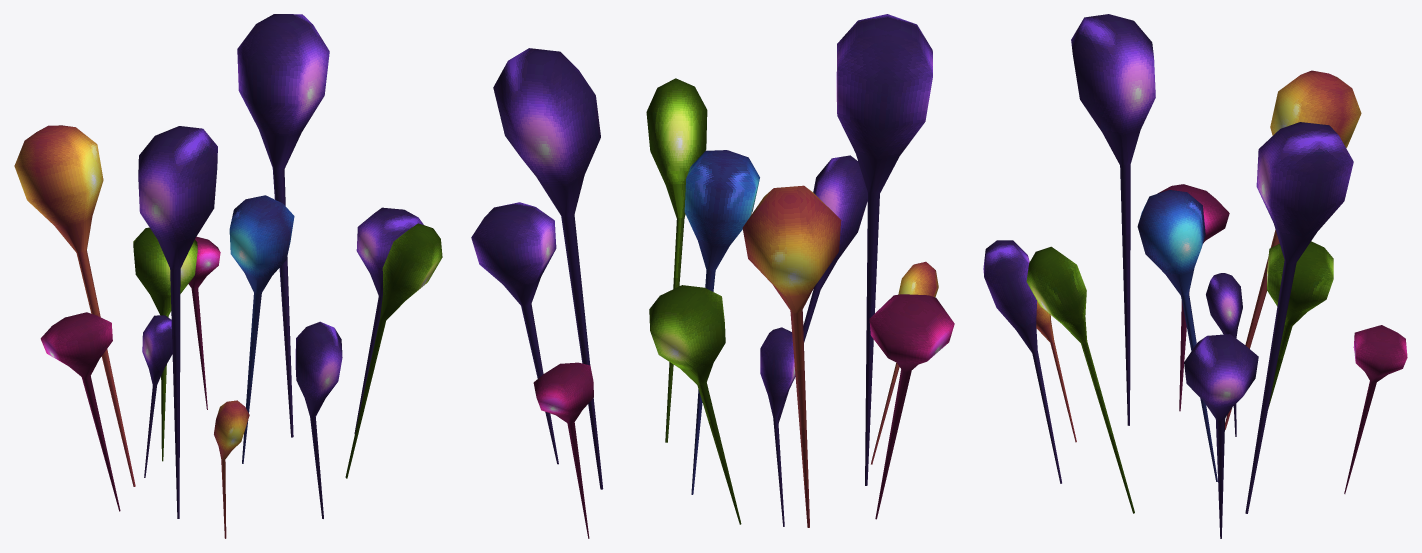
Rendered from t2_m_ara_dpl_plantBulbsBig.fbx.
The picture shows the model from 3 angles, left to right: view 1: azimuth 30°, elevation 25°; view 2: azimuth 150°, elevation 25°; view 3: azimuth 270°, elevation 25°; orthographic projection. The views are drawn at different scales.
Parts seen in each view (by area): view 1: t2_m_ara_dpl_plantBulbsBig; view 2: t2_m_ara_dpl_plantBulbsBig; view 3: t2_m_ara_dpl_plantBulbsBig.
Part boxes in pixels (bbox=[...]): t2_m_ara_dpl_plantBulbsBig: bbox=[14, 14, 442, 538]; t2_m_ara_dpl_plantBulbsBig: bbox=[471, 14, 954, 538]; t2_m_ara_dpl_plantBulbsBig: bbox=[983, 14, 1407, 538].
Bounding box in the file's own units: 1.9 × 1.89 × 1.76.
